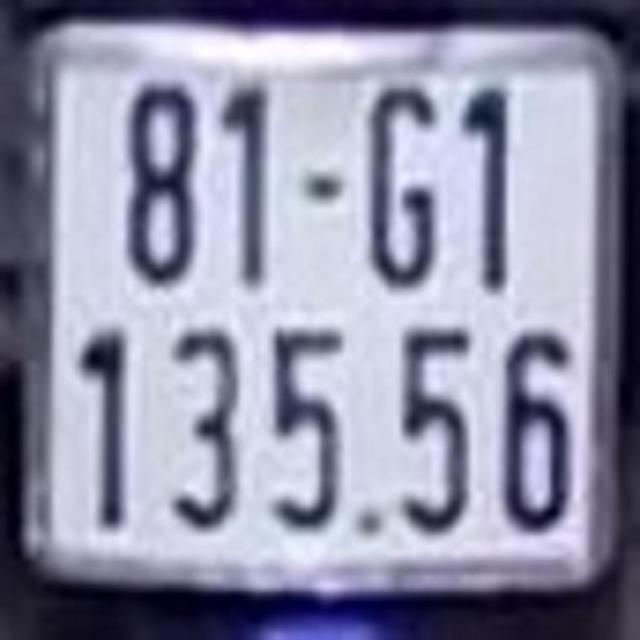1: (454, 79, 518, 294), (75, 323, 133, 527), (220, 76, 270, 290)
3: (161, 320, 242, 523)
5: (395, 317, 472, 538), (270, 317, 341, 530)
6: (499, 316, 575, 535)
8: (124, 72, 200, 280)
G: (359, 78, 442, 288)
